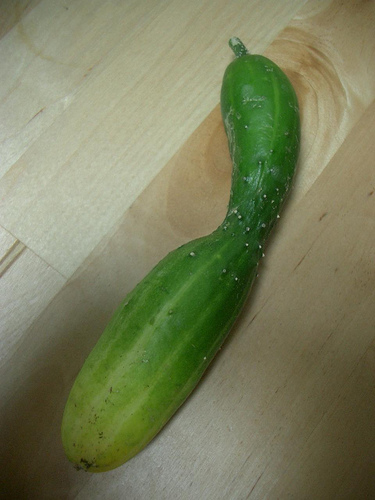cucumber: (57, 33, 302, 475)
